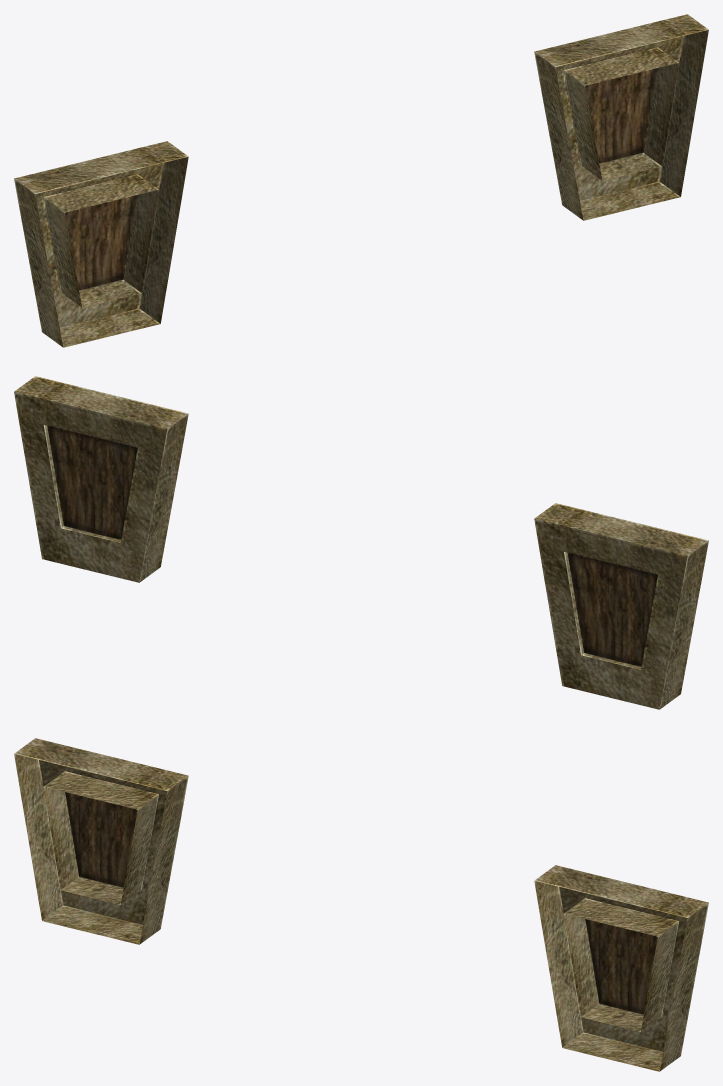
File: hrt_window8.glb
3 views of the same model, one above another, from view 1: azimuth 30°, elevation 25°; view 2: azimuth 150°, elevation 25°; view 3: azimuth 330°, elevation 25° (orthographic).
Visible parts, largest first — view 1: hrt_window8-col; view 2: hrt_window8-col; view 3: hrt_window8-col.
Part boxes in pixels (<box>): hrt_window8-col: <box>14,14,708,347</box>; hrt_window8-col: <box>14,376,708,709</box>; hrt_window8-col: <box>14,738,708,1071</box>.
Bounding box in the file's own units: 5.19 × 1.18 × 0.2853.
Materials: 1 (1 with a texture image).
